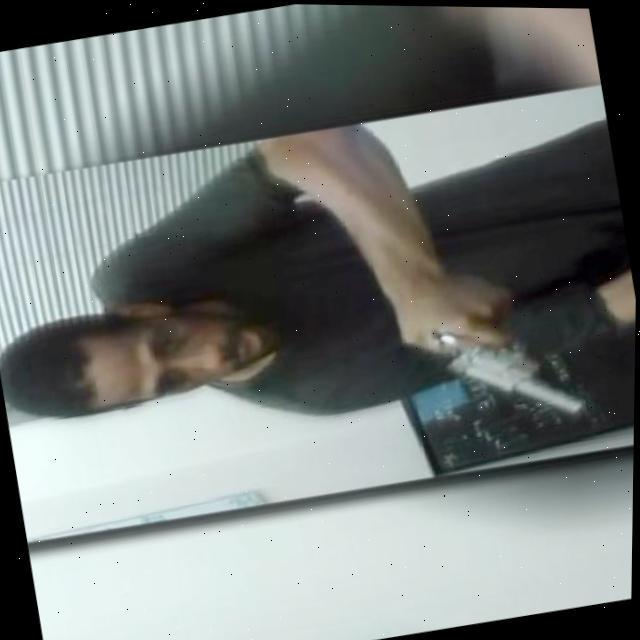gun: (415, 295, 593, 437)
